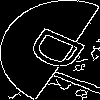D: (25, 25, 98, 79)
